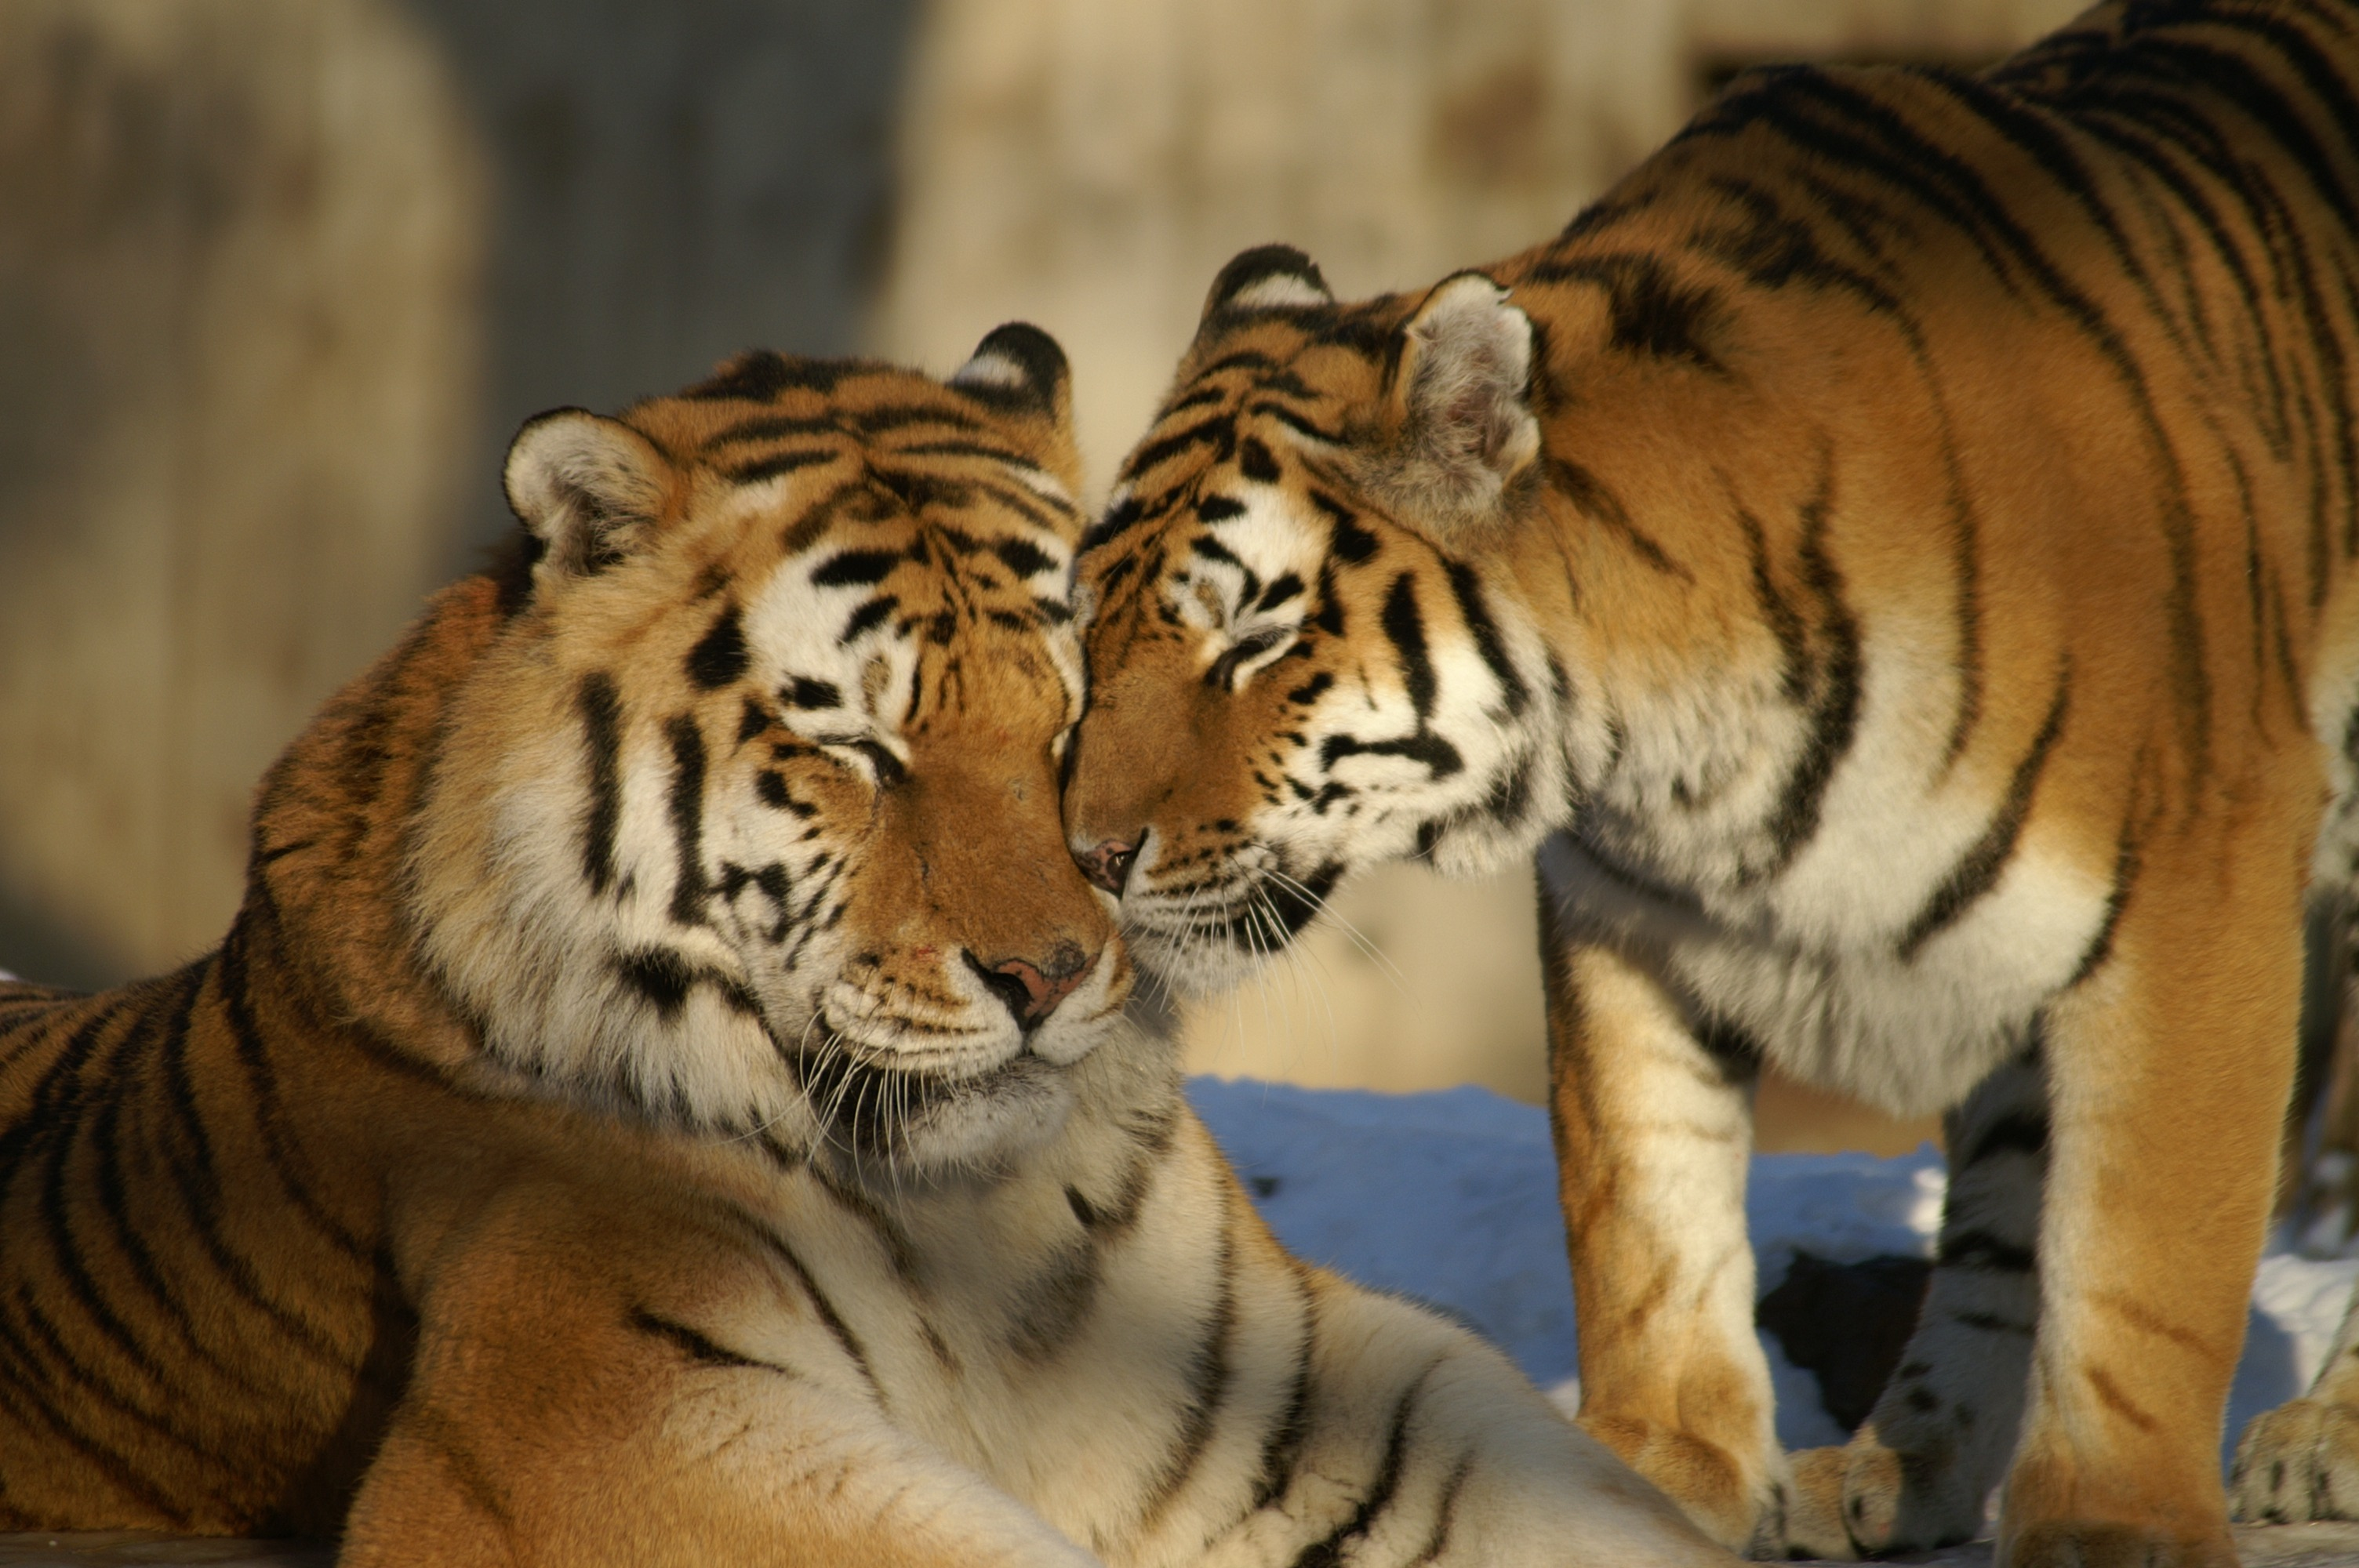tiger: (1048, 93, 2345, 1480), (273, 361, 1239, 1526)
